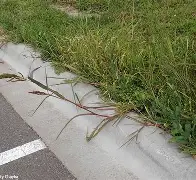weed: (0, 0, 195, 154)
